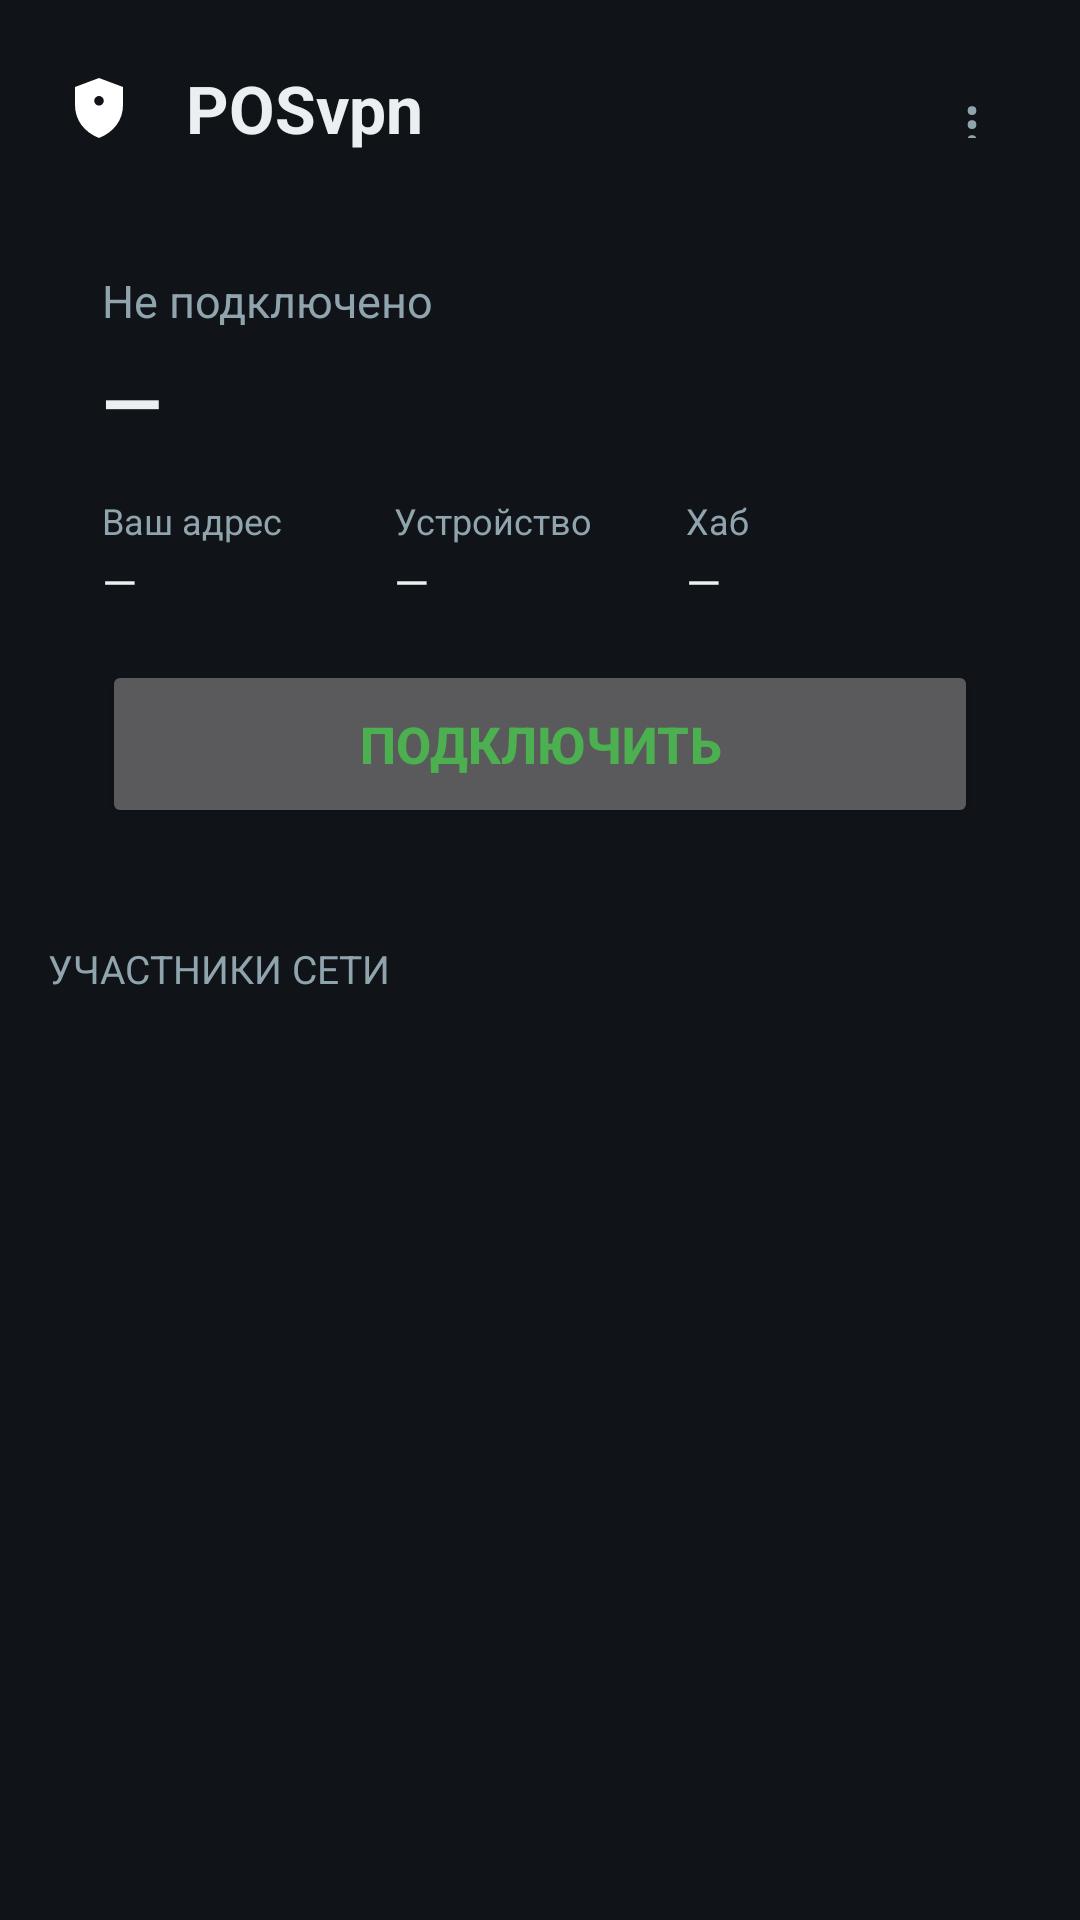

Where to tap for icons on this 1080*1920 app screen, as (x,y):
shield: (99,108)
